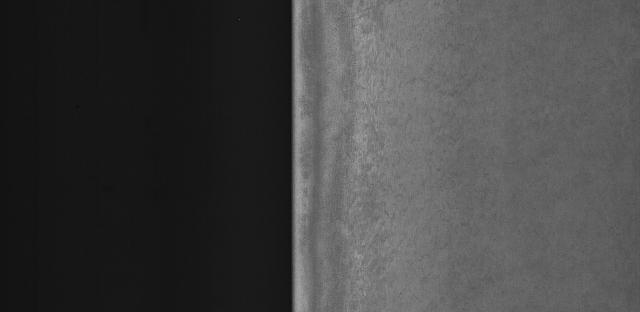silk_spot: (322, 11, 401, 308)
